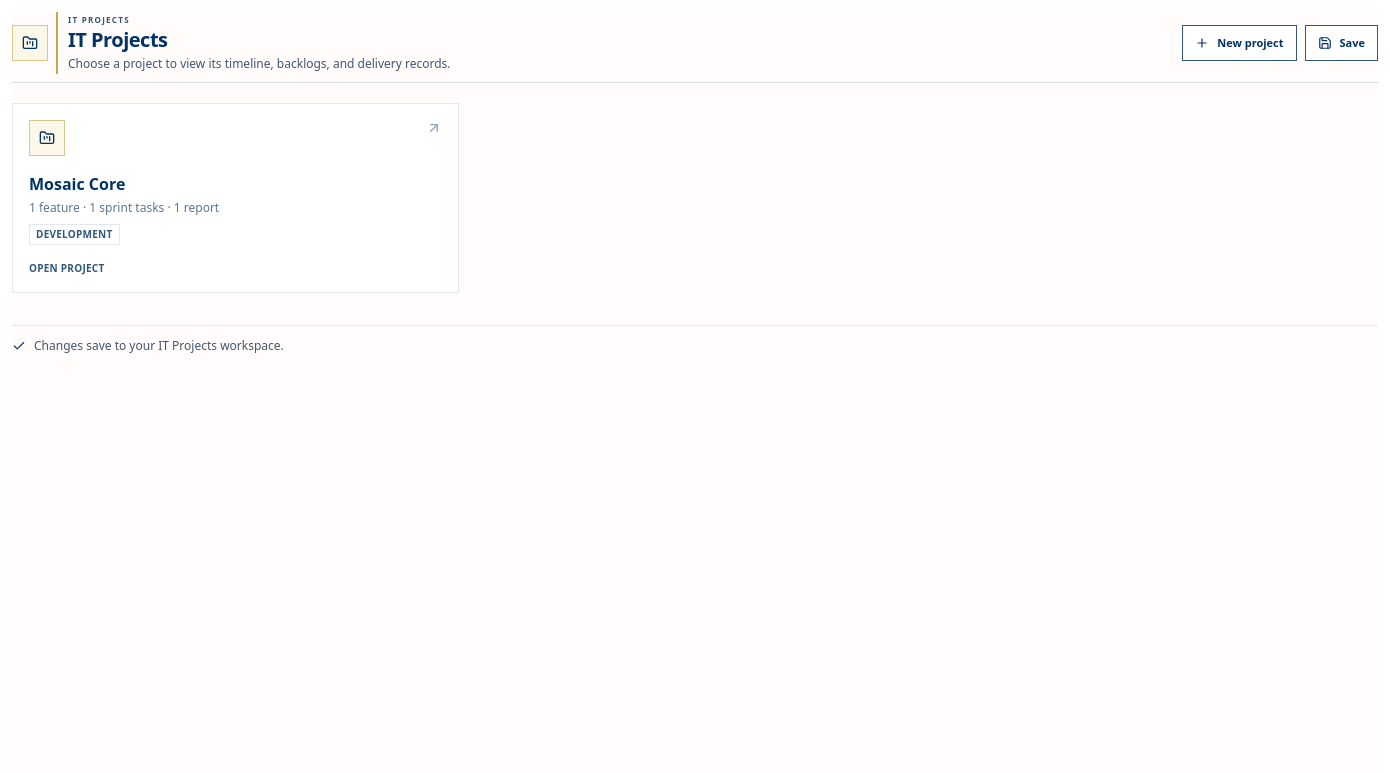
Test: IT Projects workspace › switches an existing project to General and back without losing its data
The width and height of the screenshot is (1390, 773).
Click the button "Mosaic Core" at (47, 138), box 12,103 -> 459,293
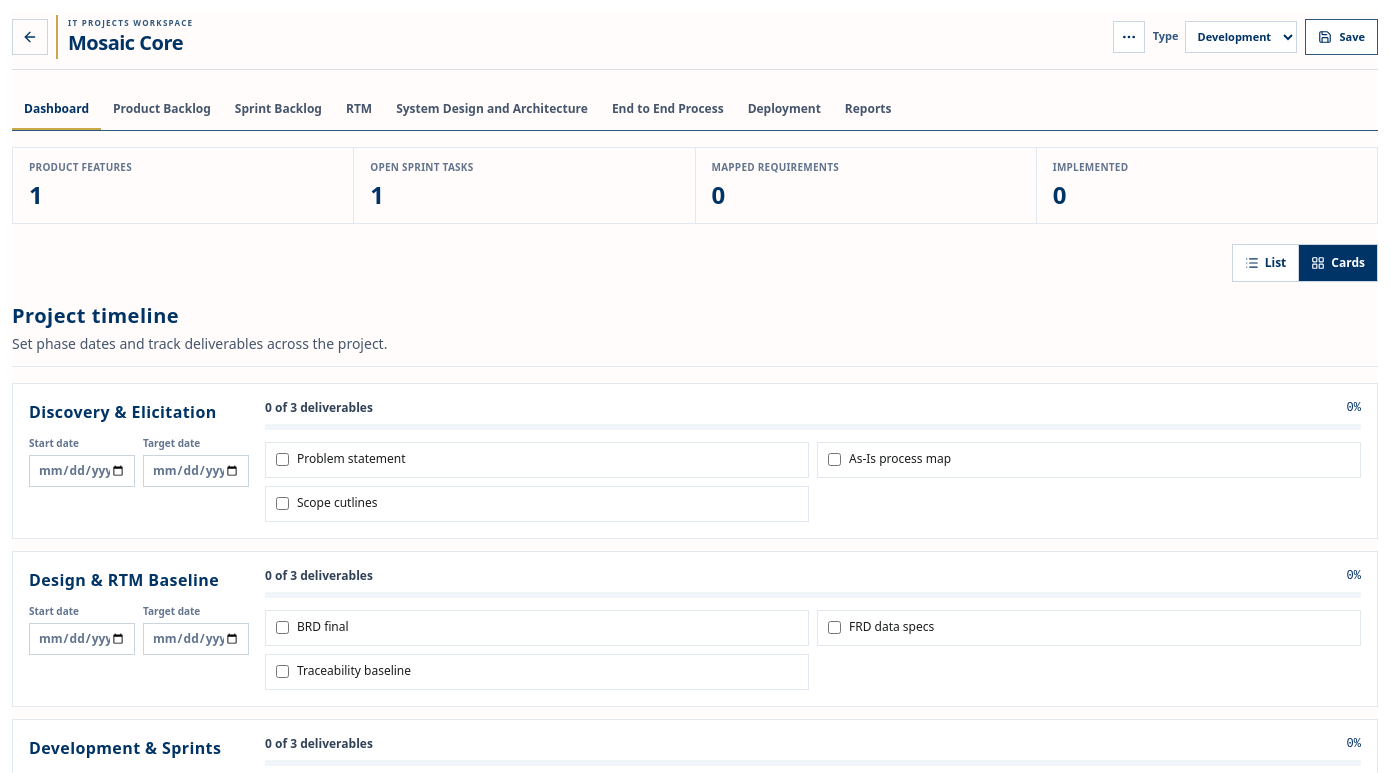
Select "General" in the dropdown named "Project type" at (1240, 36), box 1184,20 -> 1296,52
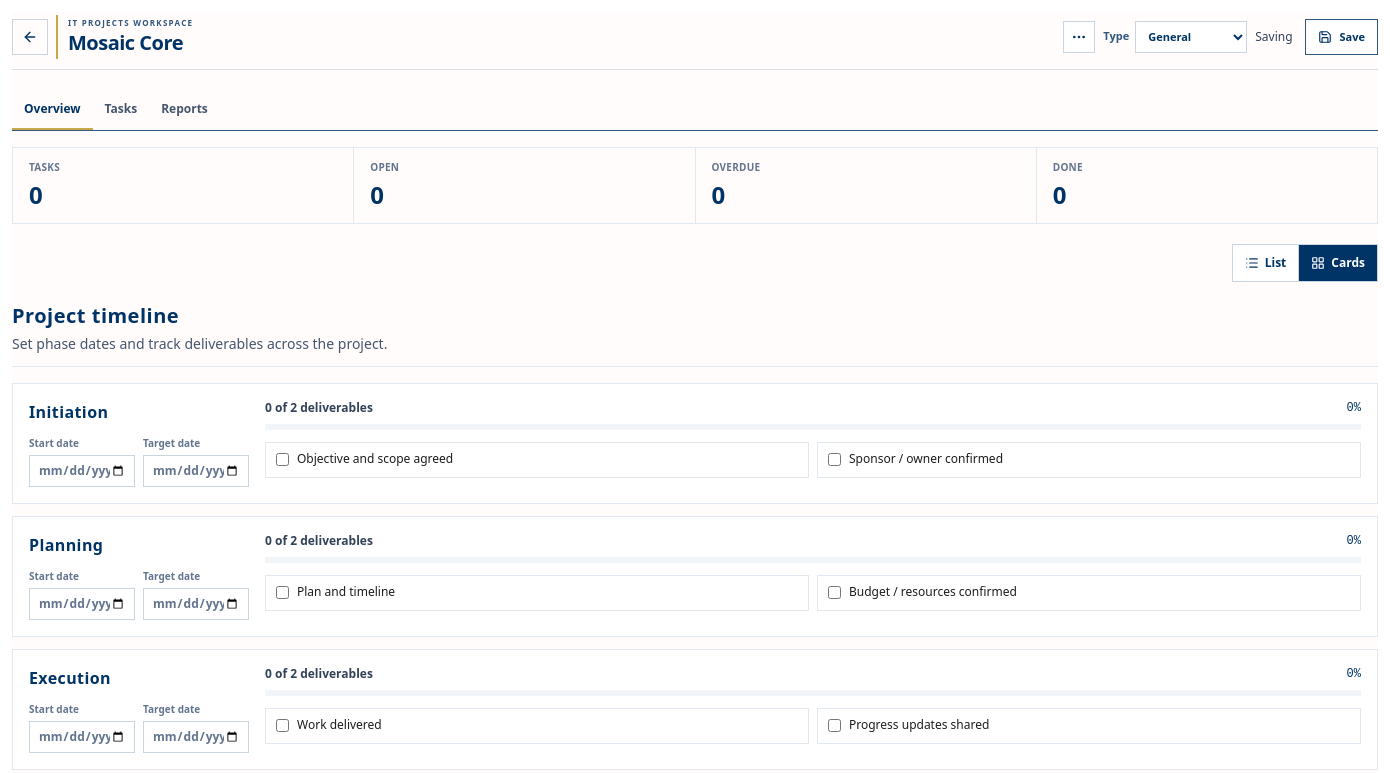
Check: the tabs read "Overview", "Tasks", "Reports", in this order, box 12,90 -> 92,130; 92,90 -> 149,130; 149,90 -> 220,130
Check: the heading "Initiation" is shown, box 29,401 -> 108,423
Click the button "Save" at (1341, 36), box 1304,18 -> 1378,54
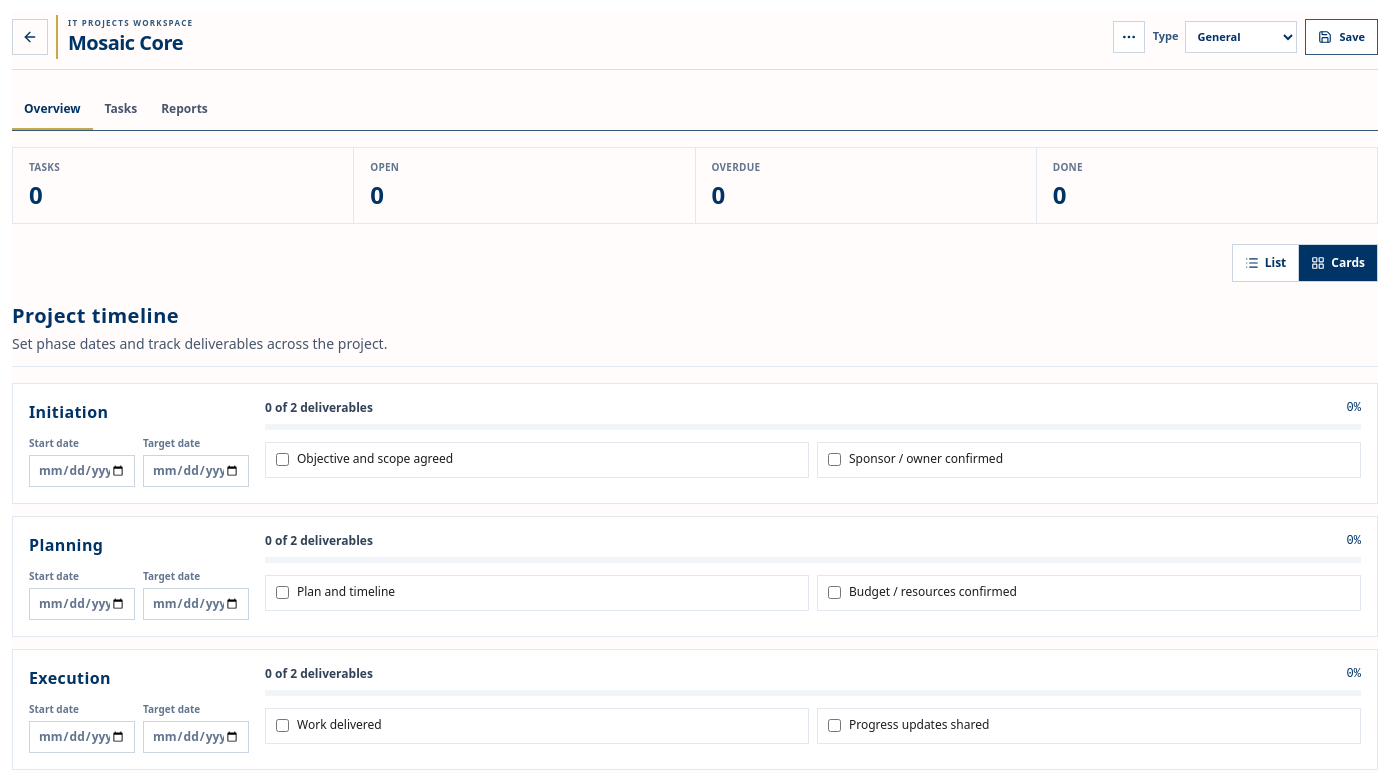
Select "Development" in the dropdown named "Project type" at (1240, 36), box 1184,20 -> 1296,52
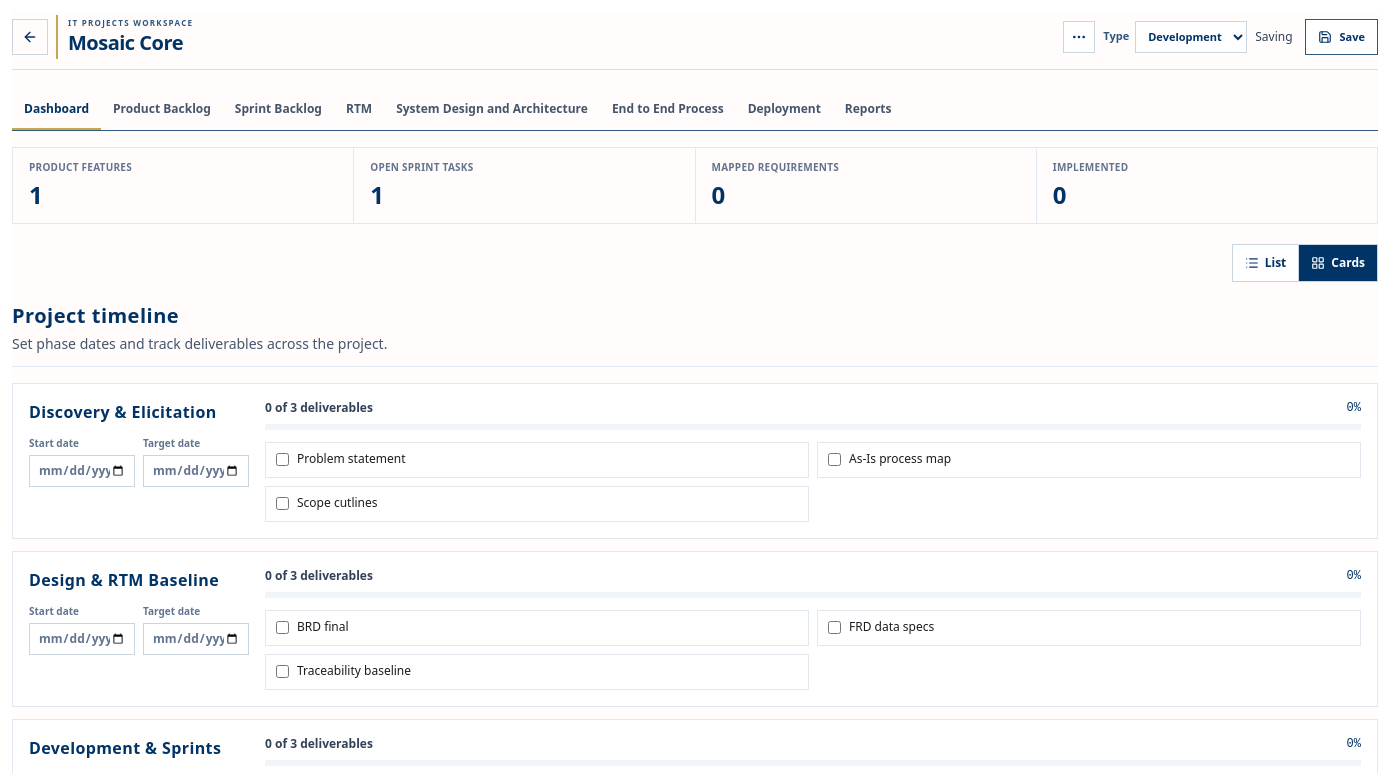
Check: the tab "Product Backlog" is shown, box 101,90 -> 223,130
